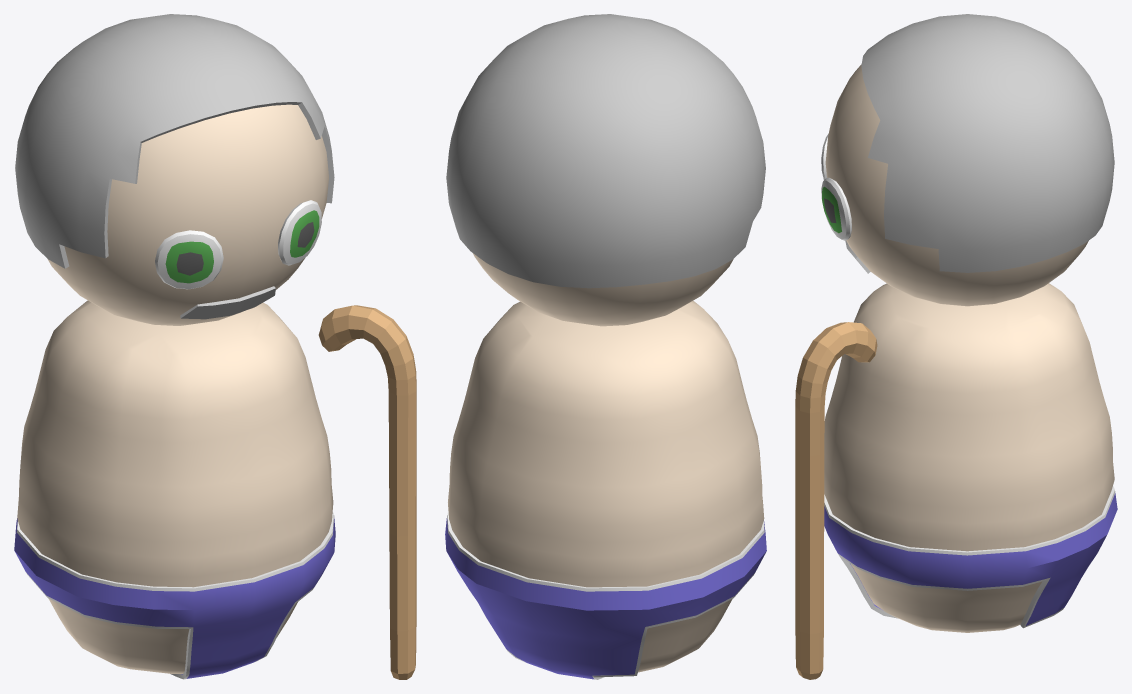
The model's file is kılıçdaroğlu.fbx.
3 views of the same model, side by side, from view 1: azimuth 30°, elevation 25°; view 2: azimuth 150°, elevation 25°; view 3: azimuth 270°, elevation 25° (orthographic). The views are drawn at different scales.
Visible parts, largest first — view 1: Cube.022; view 2: Cube.022; view 3: Cube.022.
Boxes of the visible parts, box(x1,y1,x2,y2) form: Cube.022: box(14, 14, 416, 679); Cube.022: box(445, 14, 766, 679); Cube.022: box(795, 14, 1117, 679).
Size of the model in its own units: 180 by 360 by 181.
